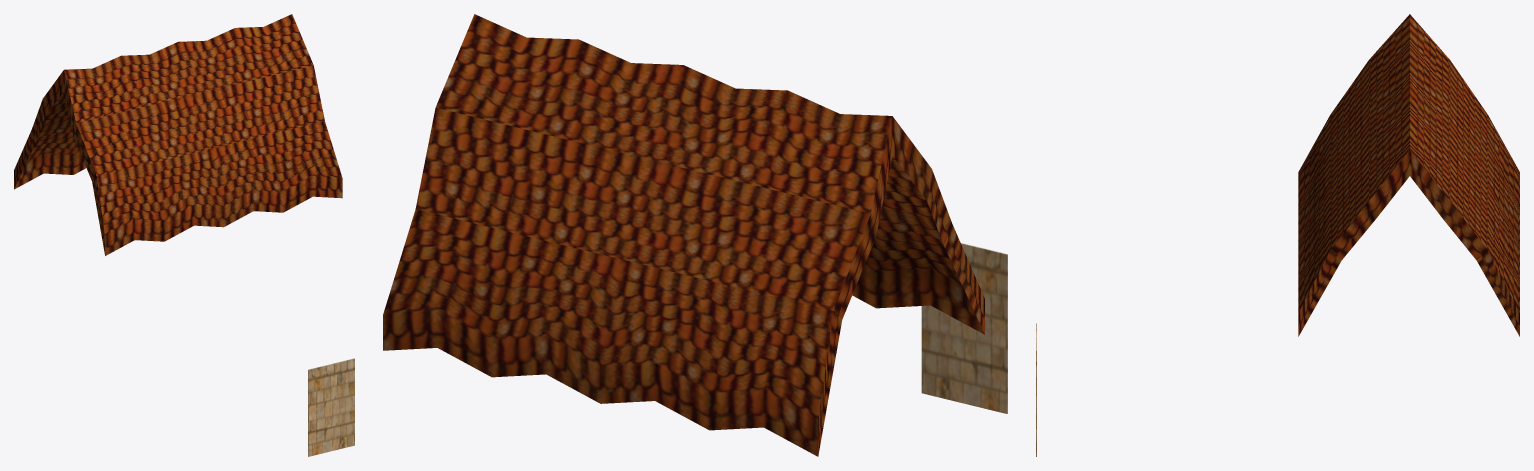
File: roof_corral.dae
3 views of the same model, side by side, from view 1: azimuth 30°, elevation 25°; view 2: azimuth 150°, elevation 25°; view 3: azimuth 270°, elevation 25° (orthographic). The views are drawn at different scales.
Visible parts, largest first — view 1: corral.001; view 2: corral.001; view 3: corral.001.
Boxes of the visible parts, bbox=[...] form: corral.001: bbox=[14, 14, 354, 456]; corral.001: bbox=[383, 14, 1007, 456]; corral.001: bbox=[1036, 14, 1519, 456].
Bounding box in the file's own units: 11.4 × 16.52 × 13.62.
